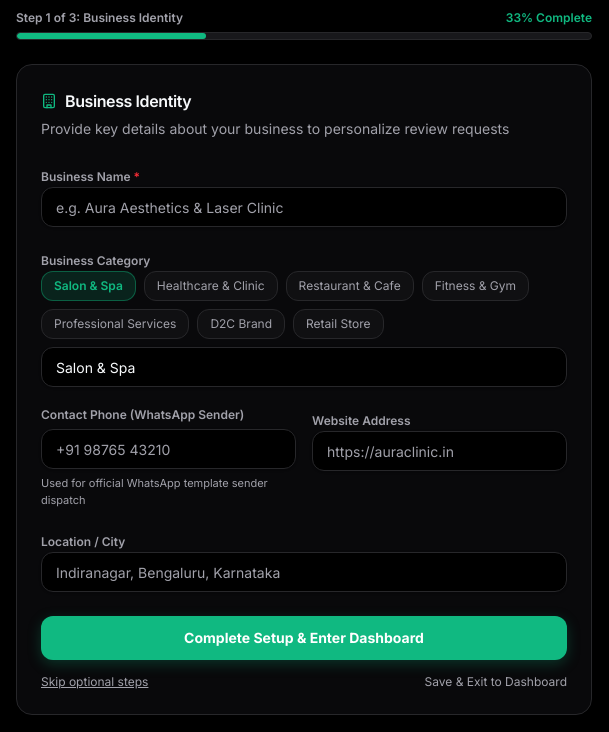
OnboardingPage Integration Tests › allows skipping optional steps to advance to step 2 without submitting
The width and height of the screenshot is (609, 732).
(page scrolled)
Click the button "Skip optional steps".
click(95, 682)  # box [41, 674, 148, 690]
(page scrolled)
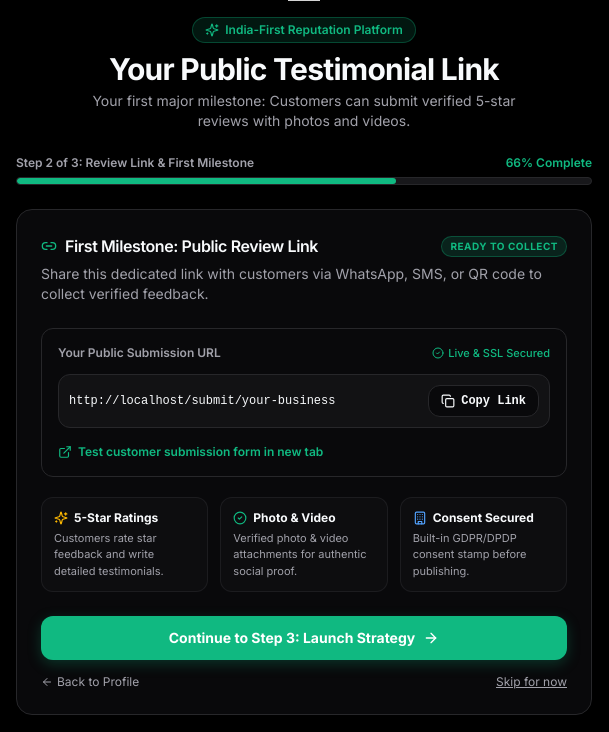
Now the heading "Your Public Testimonial Link" is shown, box [109, 51, 499, 87]
Now the text "66% Complete" is shown, box [506, 155, 592, 171]
Now the button "Copy Link" is shown, box [428, 384, 539, 416]
